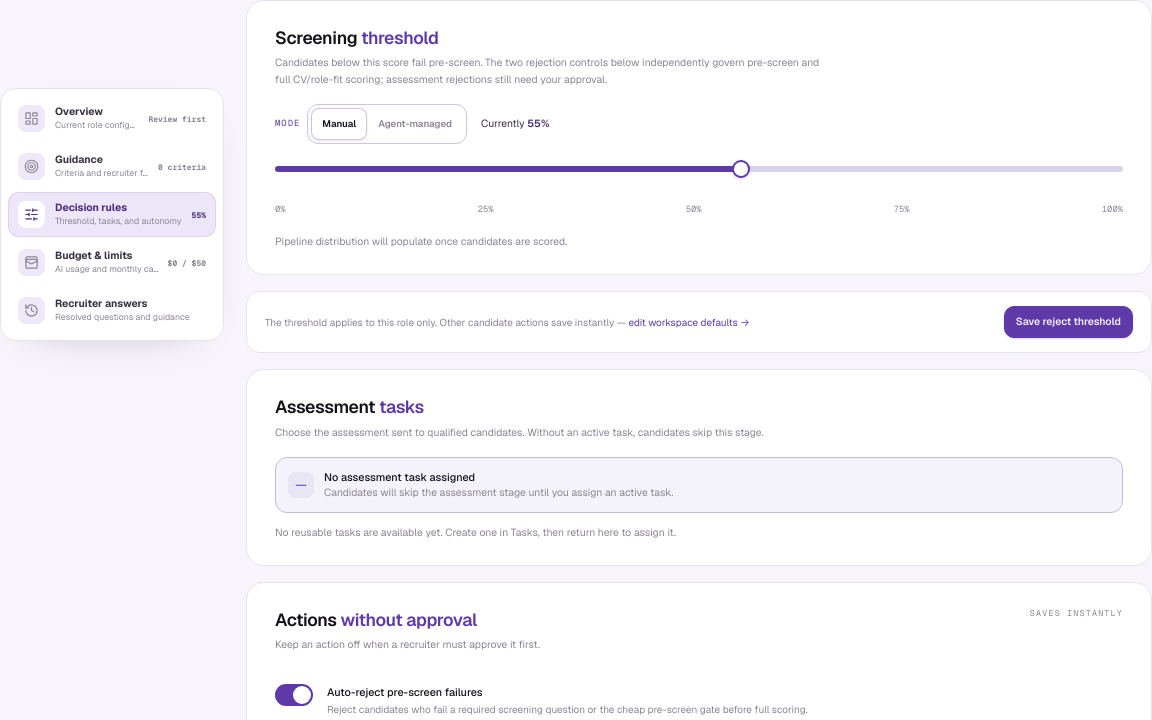
Test: RoleAgentSettingsTab reject and pause boundaries › distinguishes manual pauses from automatic budget, credit, and startup holds
The width and height of the screenshot is (1152, 720).
Click the link "Budget & limits AI usage and monthly cap $0 / $50" at (112, 262), box [8,240,216,285]
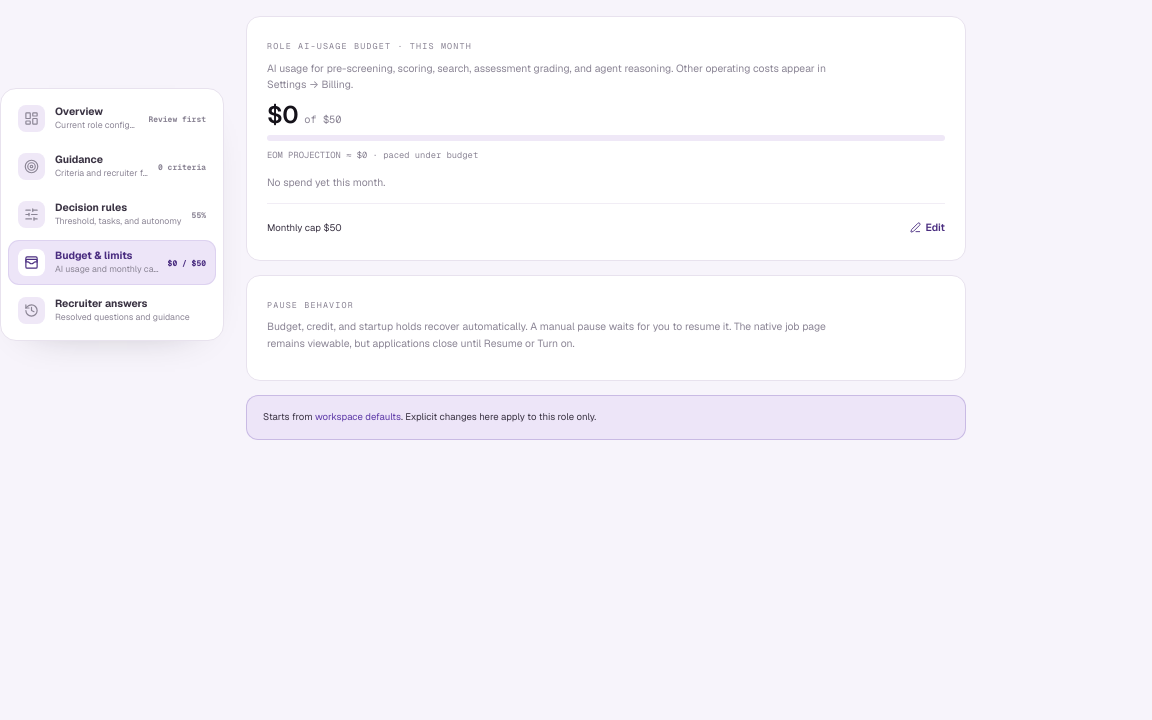
Now the text "PAUSE BEHAVIOR" is shown, box [267,299,354,311]
Now the text "Budget, credit, and startup holds recover automatically" is shown, box [267,320,734,333]
Now the text "applications close until Resume or Turn on" is shown, box [267,320,826,350]
